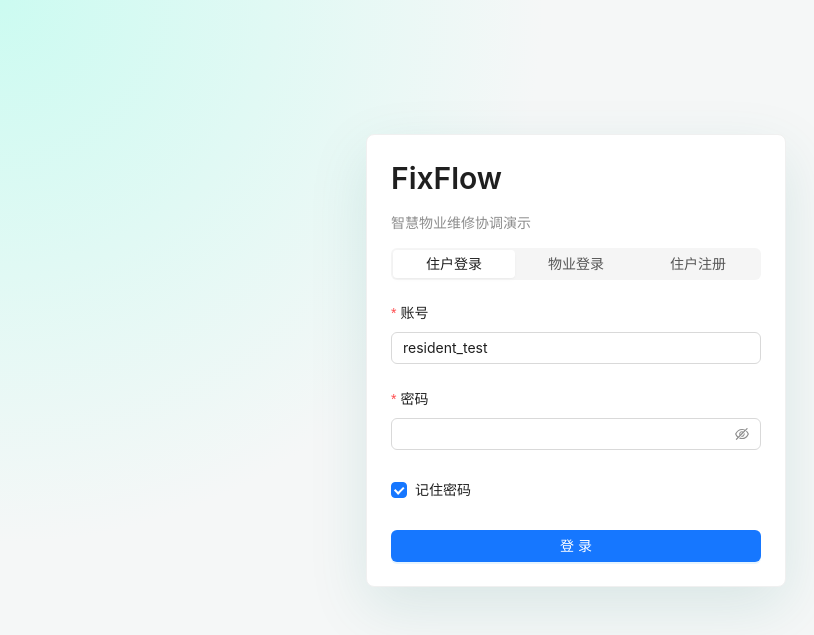
Scenario: uses the dedicated operator test account for property login
Click the text "物业登录": click(576, 263) x1=548 y1=254 x2=604 y2=272
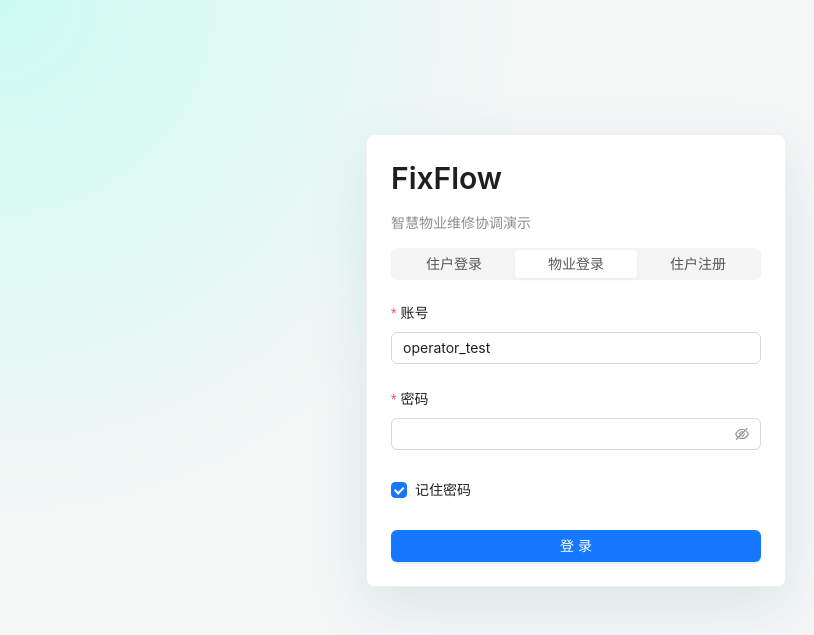
Check: the password field labelled "密码" is empty, box x1=403 y1=422 x2=731 y2=444
Check: the field labelled "账号" holds "operator_test", box x1=391 y1=332 x2=761 y2=364
